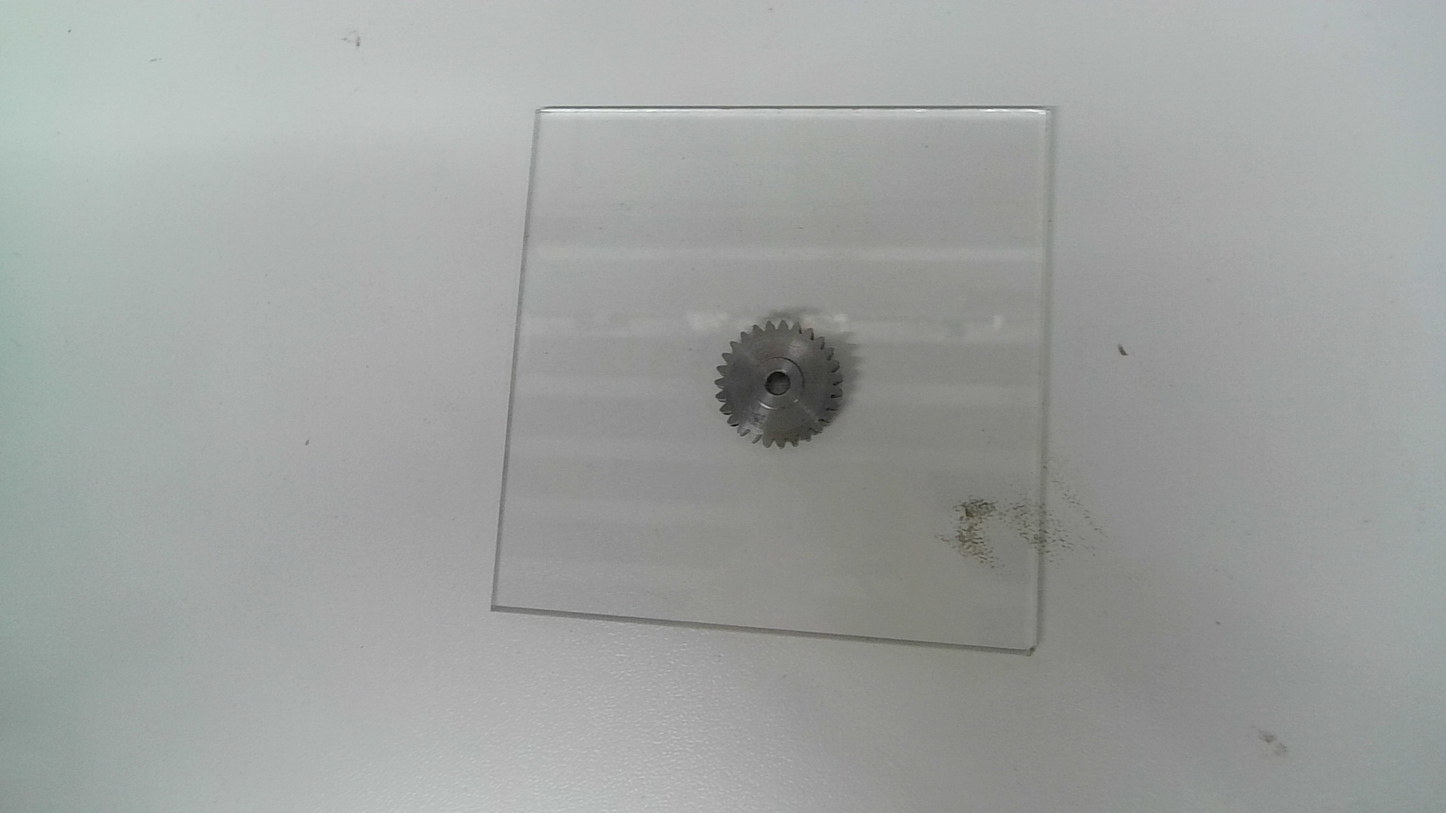gear: (714, 317, 848, 453)
